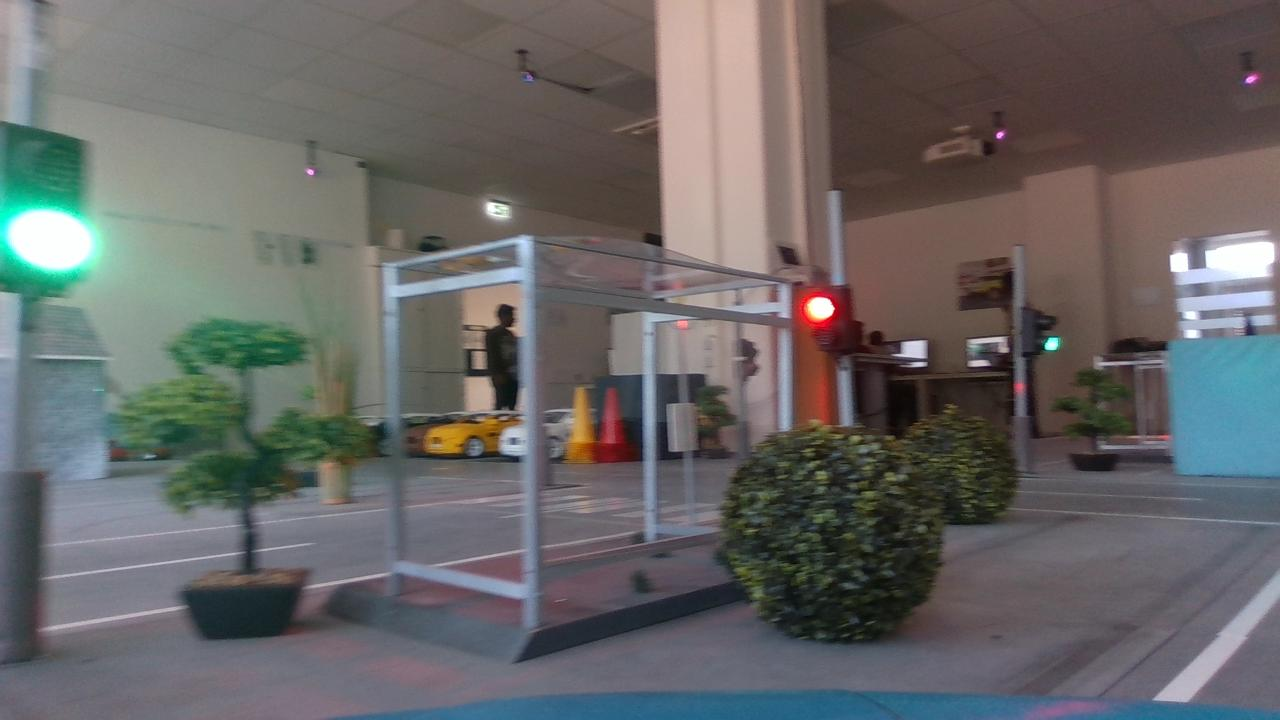traffic_light_green: (1, 94, 101, 329)
